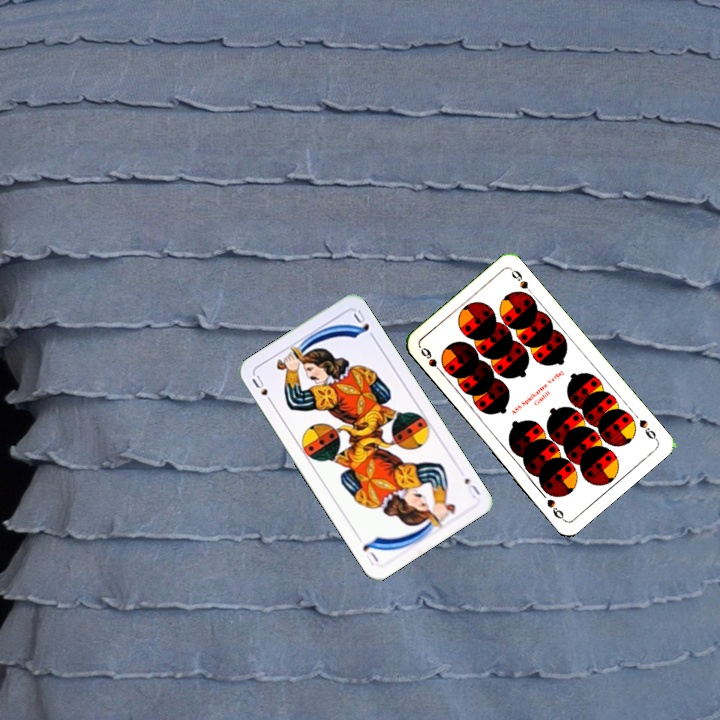S9: (416, 343, 447, 378), (635, 415, 661, 443)
SU: (248, 371, 276, 407), (460, 473, 483, 501)
